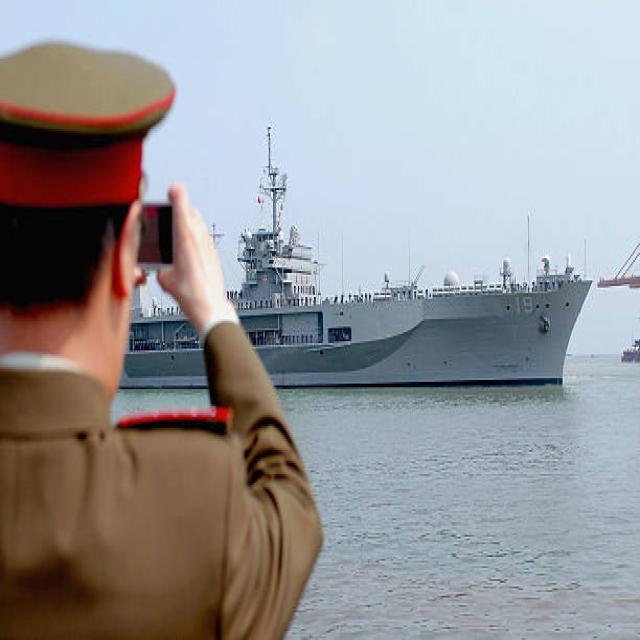Military: (232, 120, 593, 389), (121, 266, 205, 389)
